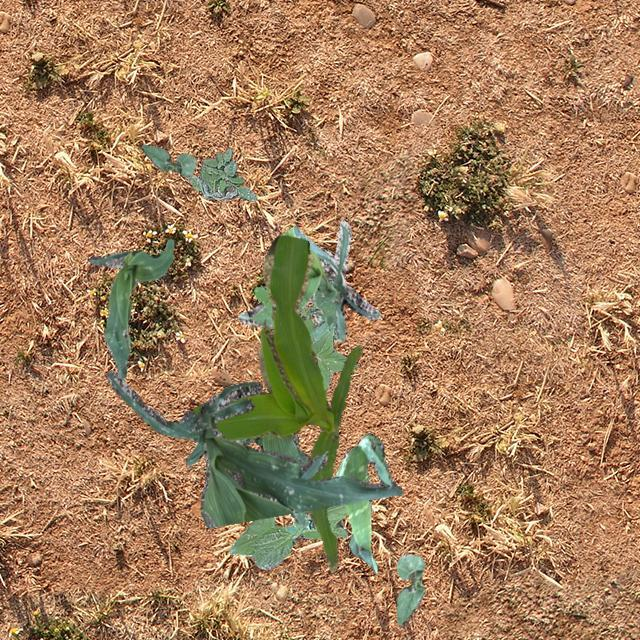crop: (192, 234, 362, 570), (105, 370, 402, 528), (236, 218, 380, 340), (88, 238, 172, 380), (184, 432, 308, 526), (334, 433, 396, 572), (228, 503, 346, 569), (396, 552, 424, 624), (140, 144, 196, 176)
weed: (254, 285, 346, 389), (187, 146, 256, 200)
